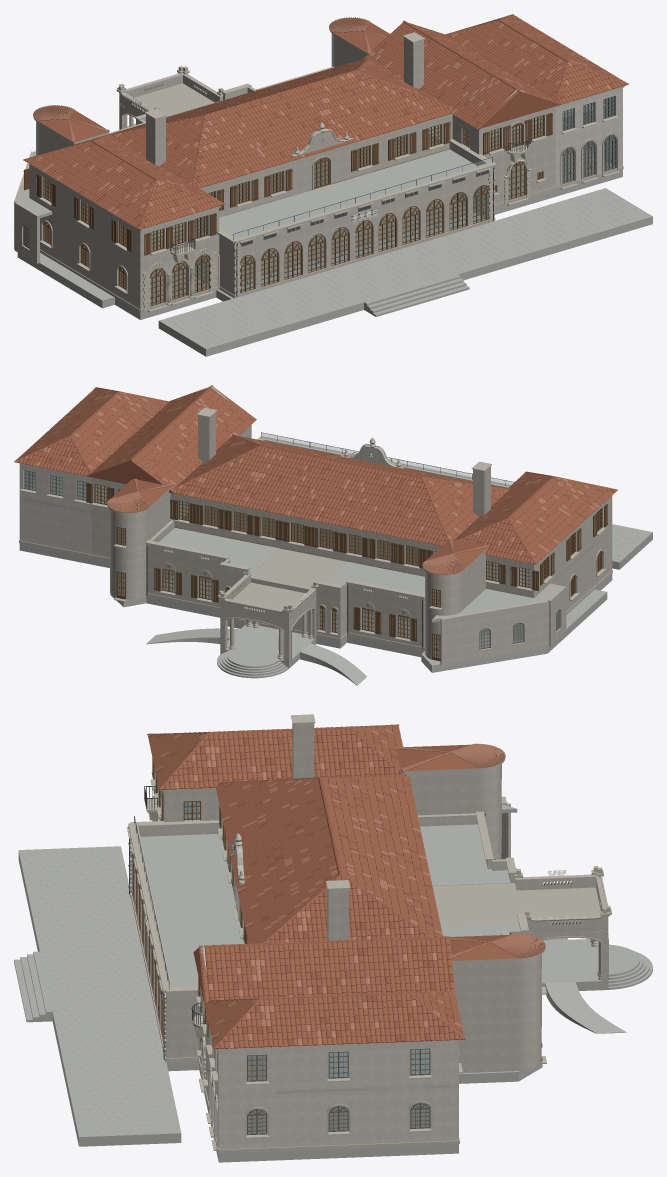
Rendered from columbia-country-club-web.glb.
The picture shows the model from 3 angles, top to bottom: view 1: azimuth 30°, elevation 25°; view 2: azimuth 150°, elevation 25°; view 3: azimuth 270°, elevation 25°; orthographic projection. The views are drawn at different scales.
Size of the model in its own units: 55.32 by 14 by 45.05.
Materials: 18 (2 with a texture image).
